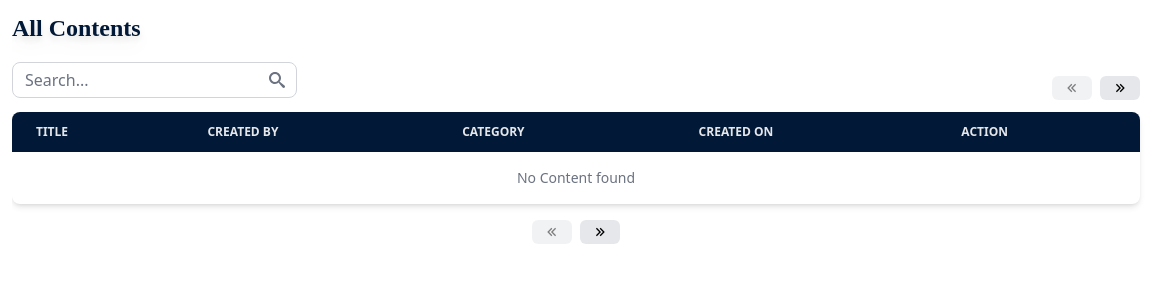
Scenario: ContentTable Component › filters content based on search input
The width and height of the screenshot is (1158, 283).
Type "Test" into the field with placeholder "Search...".
click(154, 80); type("Test")  # box [12,62,297,98]
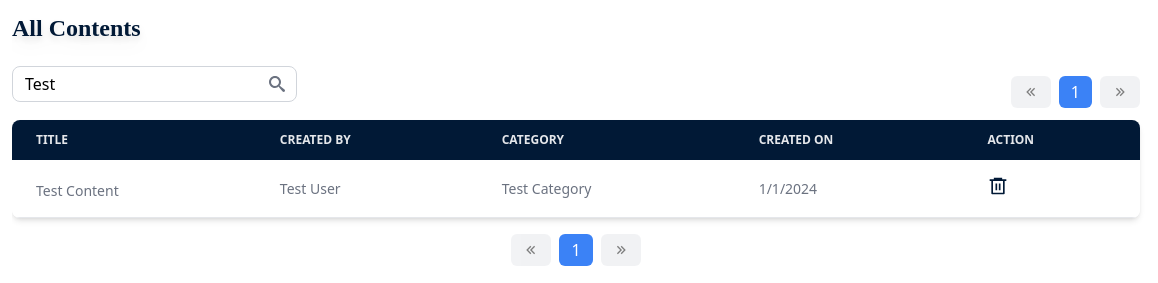
Expected: the text "Test Content" is shown, [12,165,143,217]
Replace the text in the field with placeholder "Search..." with "NonExistent" at (154, 84), box [12,66,297,102]
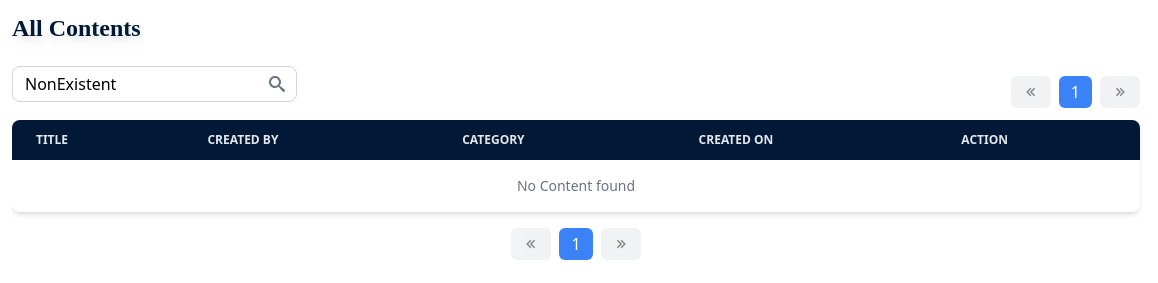
Expected: the link "Test Content" is gone
